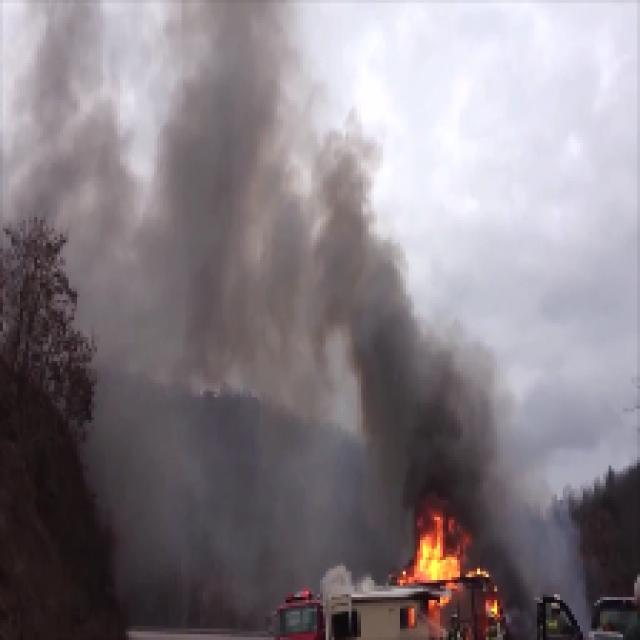fire: (414, 524, 457, 588)
smoke: (365, 335, 494, 502), (216, 216, 385, 332)
